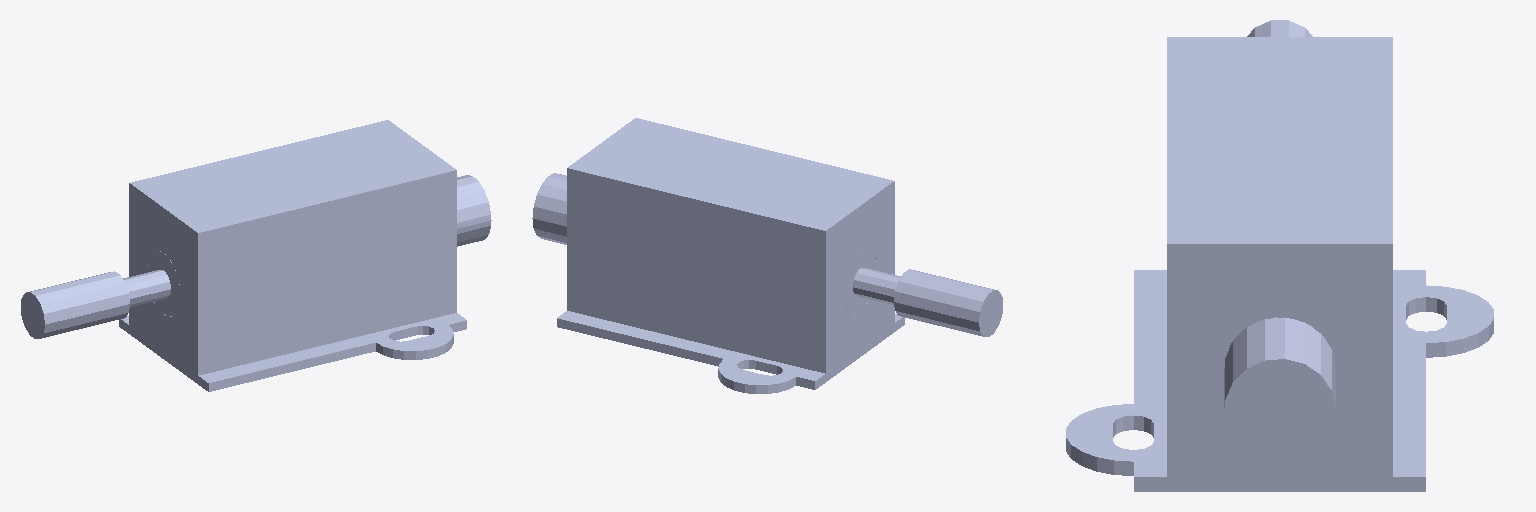
robot.urdf — Actuator_Dynamic:
<?xml version="1.0" encoding="utf-8"?>
<!-- This URDF was automatically created by SolidWorks to URDF Exporter! Originally created by [author] ([email redacted])
     Commit Version: 1.5.1-0-g916b5db  Build Version: 1.5.7152.31018
     For more information, please see http://wiki.ros.org/sw_urdf_exporter -->
<robot name="Actuator_Dynamic">

  <link
    name="base_link">
    <inertial>
      <origin
        xyz="-0.11762 -0.0036938 0.064433"
        rpy="0 0 0" />
      <mass
        value="0.0062598" />
      <inertia
        ixx="3.0895E-07"
        ixy="-1.1323E-23"
        ixz="-3.5591E-09"
        iyy="6.1027E-07"
        iyz="-5.3016E-23"
        izz="6.632E-07" />
    </inertial>
    <visual>
      <origin
        xyz="0 0 0"
        rpy="0 0 0" />
      <geometry>
        <mesh
          filename="meshes/base_link.STL" />
      </geometry>
      <material
        name="">
        <color
          rgba="0.79216 0.81961 0.93333 1" />
      </material>
    </visual>
    <collision>
      <origin
        xyz="0 0 0"
        rpy="0 0 0" />
      <geometry>
        <mesh
          filename="meshes/base_link.STL" />
      </geometry>
    </collision>
  </link>

  <link
    name="piston_link">
    <inertial>
      <origin
        xyz="-1.38777878078145E-17 1.73472347597681E-18 0.0222672906134215"
        rpy="0 0 0" />
      <mass
        value="0.00159935733100685" />
      <inertia
        ixx="3.09753658356954E-07"
        ixy="-9.98673690776072E-41"
        ixz="-3.08087264957605E-25"
        iyy="3.09753658356954E-07"
        iyz="-2.79441405773464E-23"
        izz="8.77902277106467E-09" />
    </inertial>
    <visual>
      <origin
        xyz="0 0 0"
        rpy="0 0 0" />
      <geometry>
        <mesh
          filename="meshes/piston_link.STL" />
      </geometry>
      <material
        name="">
        <color
          rgba="0.792156862745098 0.819607843137255 0.933333333333333 1" />
      </material>
    </visual>
    <collision>
      <origin
        xyz="0 0 0"
        rpy="0 0 0" />
      <geometry>
        <mesh
          filename="meshes/piston_link.STL" />
      </geometry>
    </collision>
  </link>

  <joint
    name="piston_joint"
    type="prismatic">
    <origin
      xyz="-0.096315 -0.064433 -0.0034875"
      rpy="1.5708 0 -1.5708" />
    <parent
      link="base_link" />
    <child
      link="piston_link" />
    <axis
      xyz="0 0 1" />
    <limit
      lower="-0.0054"
      upper="0"
      effort="0"
      velocity="0" />
    <dynamics
      damping="2"
      friction="1" />
  </joint>

</robot>

--- Render facts (derived) ---
3 views of the same robot in one strip: view 1: azimuth 30°, elevation 25°; view 2: azimuth 150°, elevation 25°; view 3: azimuth 270°, elevation 25° (orthographic).
Robot: Actuator_Dynamic — 2 links, 1 joints (1 prismatic); root link base_link; default pose: every joint at zero.
Links seen in each view (by area): view 1: base_link, piston_link; view 2: base_link, piston_link; view 3: base_link, piston_link.
Link boxes in pixels (x1=…): base_link: x1=119, y1=120, x2=466, y2=391; piston_link: x1=21, y1=175, x2=491, y2=338; base_link: x1=557, y1=118, x2=904, y2=393; piston_link: x1=532, y1=173, x2=1002, y2=336; base_link: x1=1066, y1=37, x2=1493, y2=491; piston_link: x1=1224, y1=20, x2=1335, y2=458.
Size in the robot's own frame: 0.0519 by 0.0266 by 0.017 metres.
Meshes: 2 distinct files referenced, 2 mesh visuals loaded (2 binary STL).